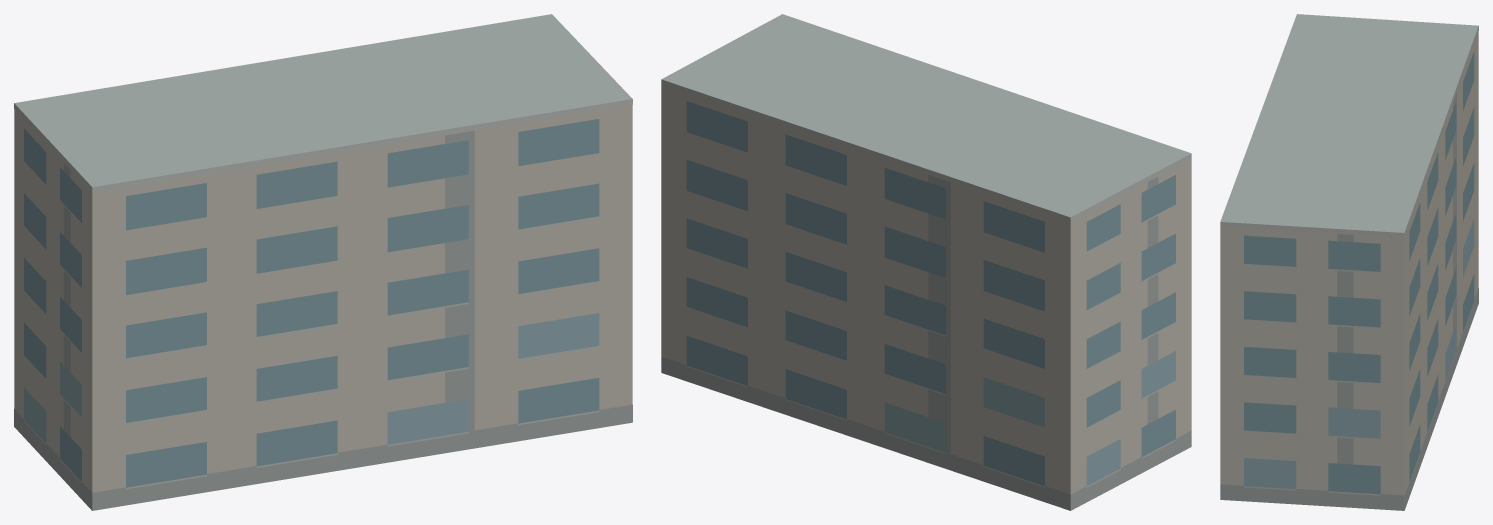
The model's file is survey-upis-33042173.glb.
3 views of the same model, side by side, from view 1: azimuth 30°, elevation 25°; view 2: azimuth 150°, elevation 25°; view 3: azimuth 270°, elevation 25° (orthographic). The views are drawn at different scales.
Parts seen in each view (by area): view 1: survey-upis-33042173.tmp; view 2: survey-upis-33042173.tmp; view 3: survey-upis-33042173.tmp.
Part boxes in pixels (<box>): survey-upis-33042173.tmp: <box>14,14,632,510</box>; survey-upis-33042173.tmp: <box>661,14,1191,510</box>; survey-upis-33042173.tmp: <box>1220,14,1478,510</box>.
Size of the model in its own units: 22.9 by 13.55 by 11.43.
